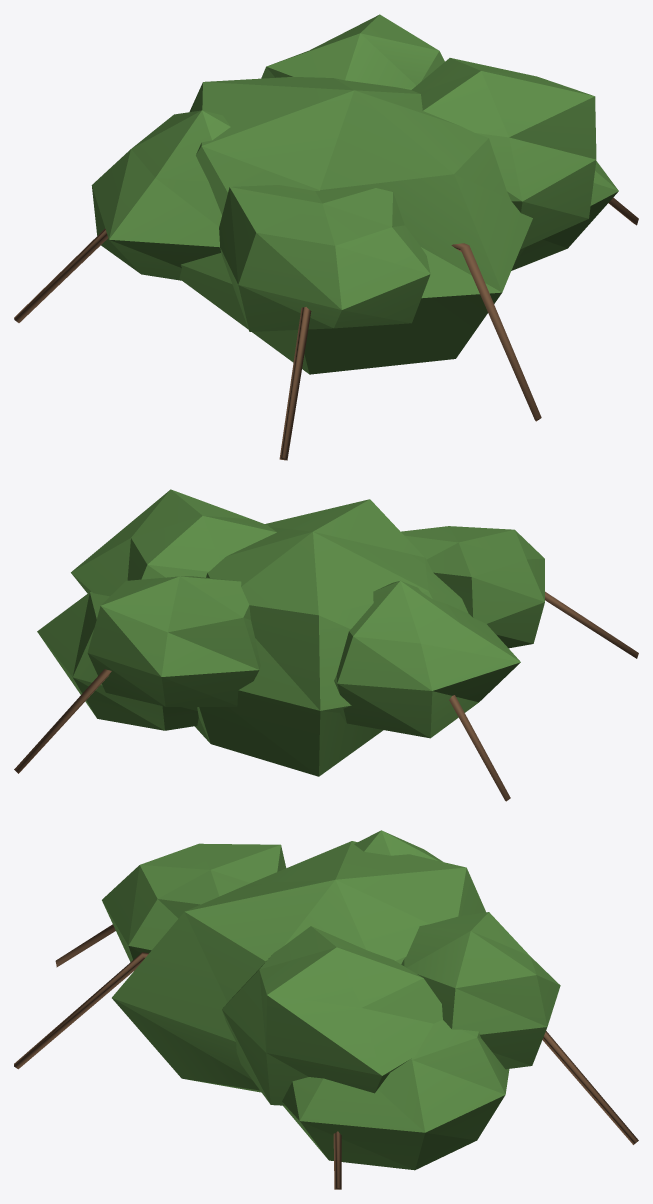
The model's file is bramble_0.glb.
3 renders of one model, top to bottom at view 1: azimuth 30°, elevation 25°; view 2: azimuth 150°, elevation 25°; view 3: azimuth 270°, elevation 25°, orthographic. The views are drawn at different scales.
Parts seen in each view (by area): view 1: bramble_0; view 2: bramble_0; view 3: bramble_0.
Part boxes in pixels (x1,y1,x2,y2): bramble_0: (14,14,638,460); bramble_0: (14,489,638,801); bramble_0: (14,830,638,1189).
Size of the model in its own units: 2.13 by 0.8858 by 2.22.
